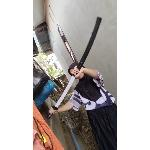Pedang: (47, 16, 105, 120)
